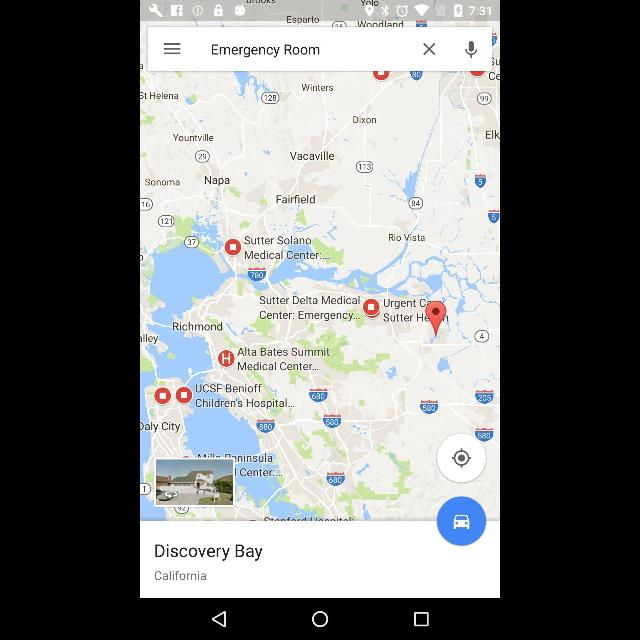button: (437, 497, 487, 545)
icon: (450, 448, 472, 470), (311, 610, 329, 628), (162, 42, 184, 56), (211, 610, 227, 628), (464, 41, 478, 61), (413, 611, 429, 627), (422, 42, 438, 56)
image: (154, 458, 236, 508)
input: (148, 27, 492, 71)
map: (142, 22, 498, 520)
panel: (142, 600, 500, 638)
text: (152, 544, 264, 560), (211, 44, 321, 58), (156, 570, 207, 582)
uppertaskbar: (141, 1, 499, 22)
